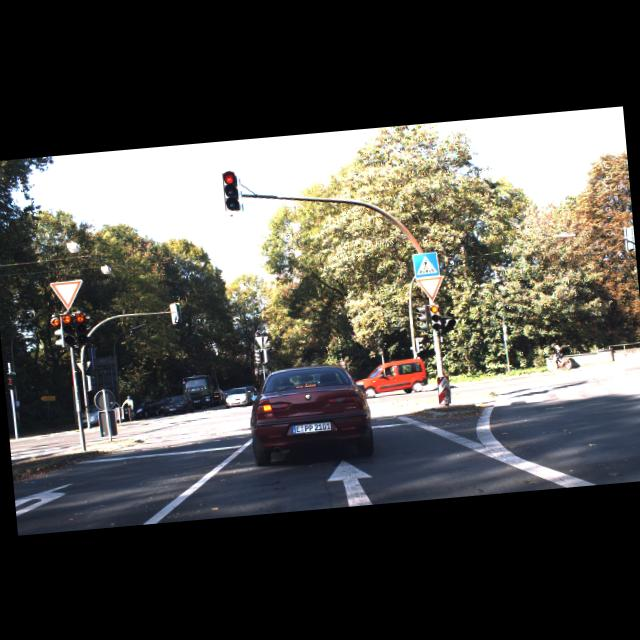other: (50, 278, 84, 310), (415, 274, 444, 300)
